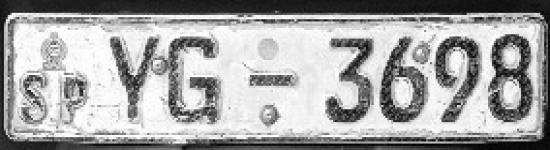-: (242, 60, 305, 98)
3: (316, 24, 378, 128)
6: (378, 32, 429, 126)
8: (484, 27, 537, 129)
9: (430, 32, 483, 130)
G: (165, 28, 228, 130)
P: (55, 68, 97, 129)
S: (15, 66, 54, 133)
Y: (104, 28, 161, 128)
